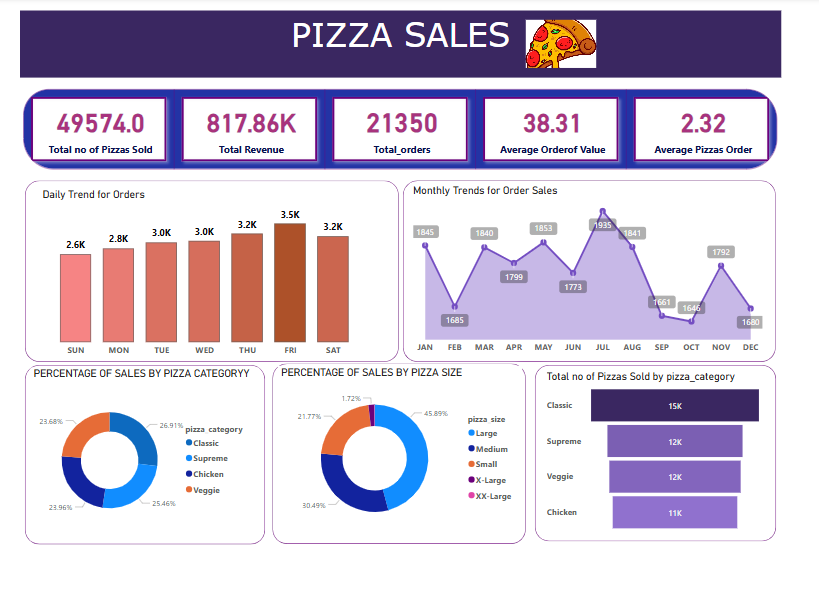

The page's visual inventory and layout, read from the dashboard file:
{"tool":"powerbi","page":{"name":"Page 1","canvas":[1489,1080],"ordinal":0},"visuals":[{"type":"cardVisual","fields":{"Data":["pizza_sales.Total no of Pizzas Sold","pizza_sales.Total Revenue","pizza_sales.Total_orders","pizza_sales.Average Orderof Value","pizza_sales.Average Pizzas Order"]},"box":[131.4,124.3,1232.9,180],"z":0},{"type":"textbox","box":[131.4,21.4,1232.9,108.6],"z":1000},{"type":"image","box":[944.3,31.1,124.6,88.5],"z":2000},{"type":"shape","box":[131.1,290.2,621.3,309.8],"z":3000},{"type":"columnChart","title":"Daily Trend for Orders","fields":{"Category":["pizza_sales.Order Day"],"Y":["pizza_sales.Total_orders"]},"box":[162.3,303.3,534.4,282],"z":4000},{"type":"shape","box":[744.3,290.2,619.7,309.8],"z":5000},{"type":"areaChart","title":"Monthly Trends for Order Sales","fields":{"Category":["pizza_sales.Order Month"],"Y":["pizza_sales.Total_orders"]},"box":[762.3,303.3,575.4,282],"z":6000},{"type":"shape","box":[531.1,585.2,426.2,308.2],"z":7000},{"type":"shape","box":[131.1,586.9,404.9,306.6],"z":8000},{"type":"shape","box":[957.4,586.9,406.6,301.6],"z":9000},{"type":"donutChart","title":"PERCENTAGE OF SALES BY PIZZA CATEGORYY","fields":{"Y":["pizza_sales.Total Revenue"],"Category":["pizza_sales.pizza_category"]},"box":[149.2,600,370.5,280.3],"z":10000},{"type":"donutChart","title":"PERCENTAGE OF SALES BY PIZZA SIZE","fields":{"Y":["pizza_sales.Total Revenue"],"Category":["pizza_sales.pizza_size"]},"box":[549.2,598.4,395.1,278.7],"z":11000},{"type":"funnel","fields":{"Y":["pizza_sales.Total no of Pizzas Sold"],"Category":["pizza_sales.pizza_category"]},"box":[979.2,605.7,358.5,266],"z":12000},{"type":"textbox","box":[14.8,21.3,103.3,518],"z":13000},{"type":"textbox","box":[536.1,903.3,421.3,177],"z":14000}]}

Visuals, with their boxes in screenshot pixels (x1, y1, x2, y2), scaled from the page's 1489x1080 canvas onto the 819x594 screenshot:
cardVisual - pizza_sales.Total no of Pizzas Sold x pizza_sales.Total Revenue: 72, 68, 750, 167
textbox: 72, 12, 750, 72
image: 519, 17, 588, 66
shape: 72, 160, 414, 330
"Daily Trend for Orders" columnChart: 89, 167, 383, 322
shape: 409, 160, 750, 330
"Monthly Trends for Order Sales" areaChart: 419, 167, 736, 322
shape: 292, 322, 527, 491
shape: 72, 323, 295, 491
shape: 527, 323, 750, 489
"PERCENTAGE OF SALES BY PIZZA CATEGORYY" donutChart: 82, 330, 286, 484
"PERCENTAGE OF SALES BY PIZZA SIZE" donutChart: 302, 329, 519, 482
funnel - pizza_sales.Total no of Pizzas Sold x pizza_sales.pizza_category: 539, 333, 736, 479
textbox: 8, 12, 65, 297
textbox: 295, 497, 527, 593
